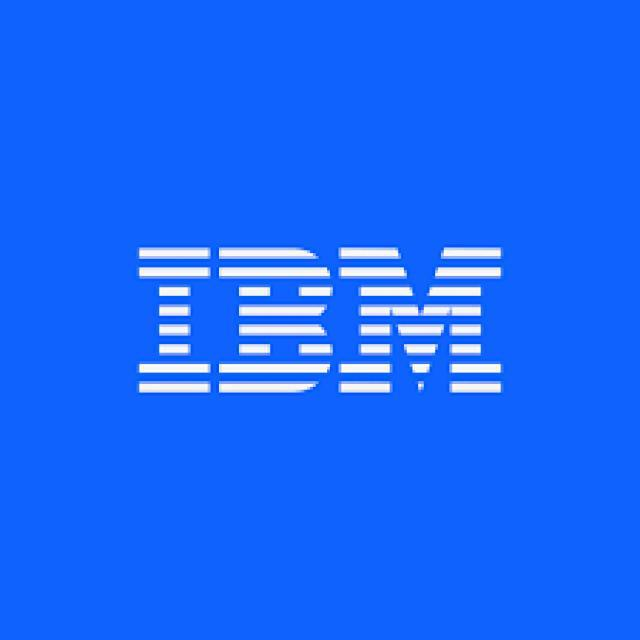ibm: (138, 246, 504, 394)
